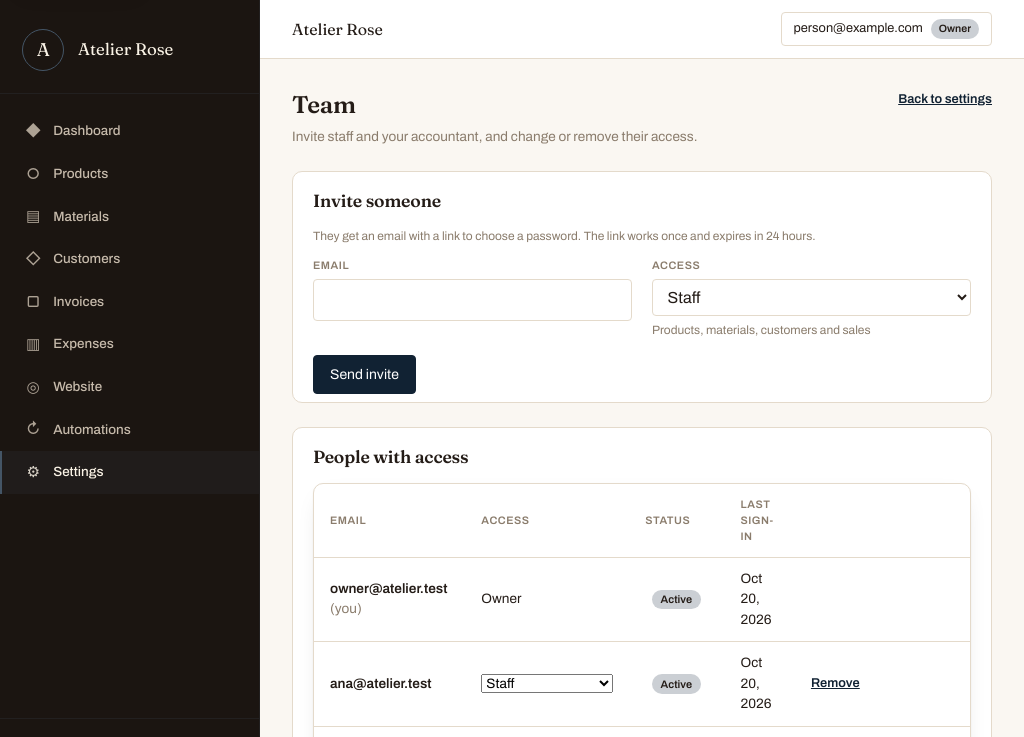
it: invite › checks the email before sending
The image size is (1024, 737).
Expected: the text "ana@atelier.test" is shown, [330,676,432,691]
In the field labelled "Email": point(472, 300) [313,279,632,321], type "nope"
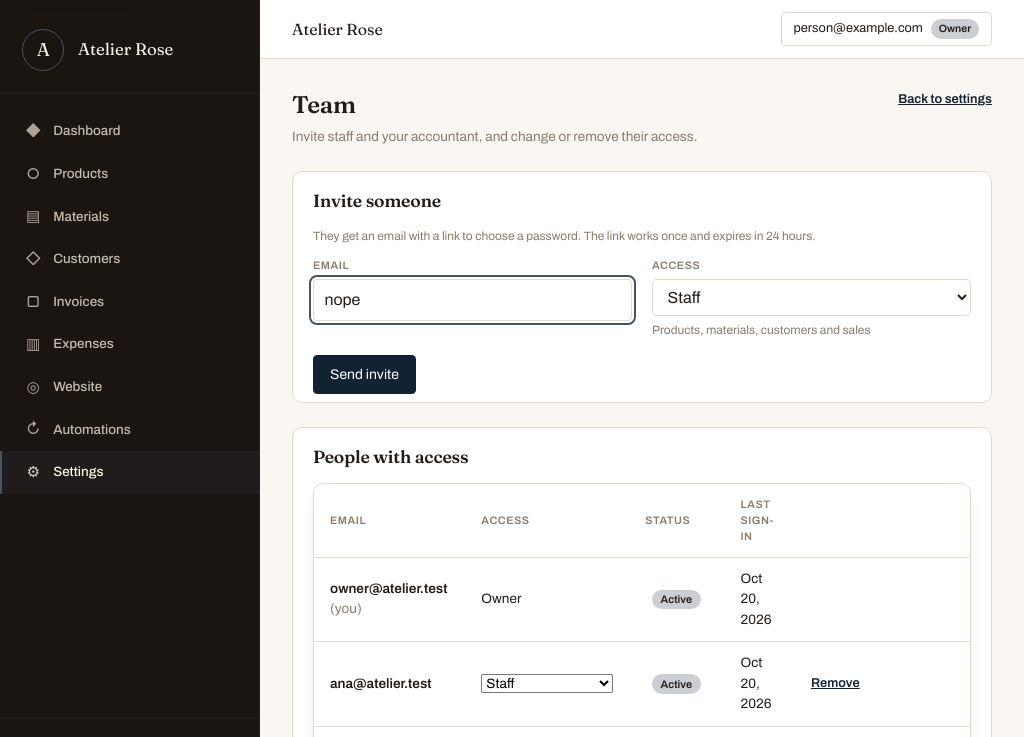
Click the button "Send invite": point(364, 375) [313,355,416,394]
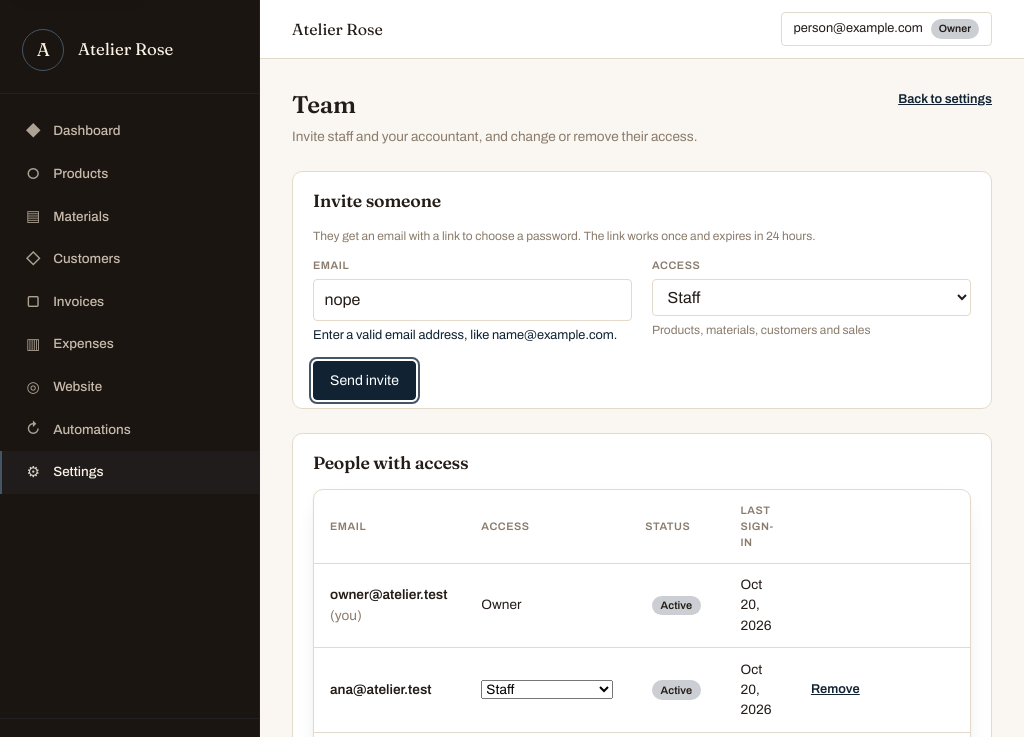
Result: the text "Enter a valid email address, like name@example.com." is shown at [313,326,632,346]
